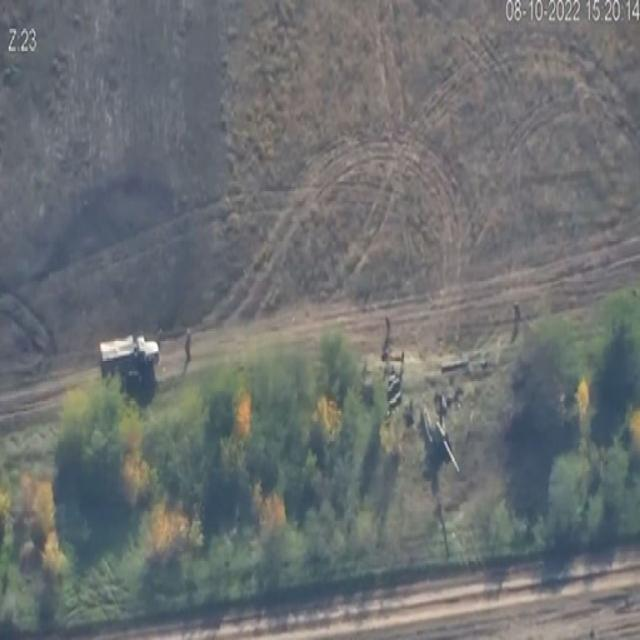ART: (419, 398, 465, 478)
TRUCK: (96, 324, 160, 396)
